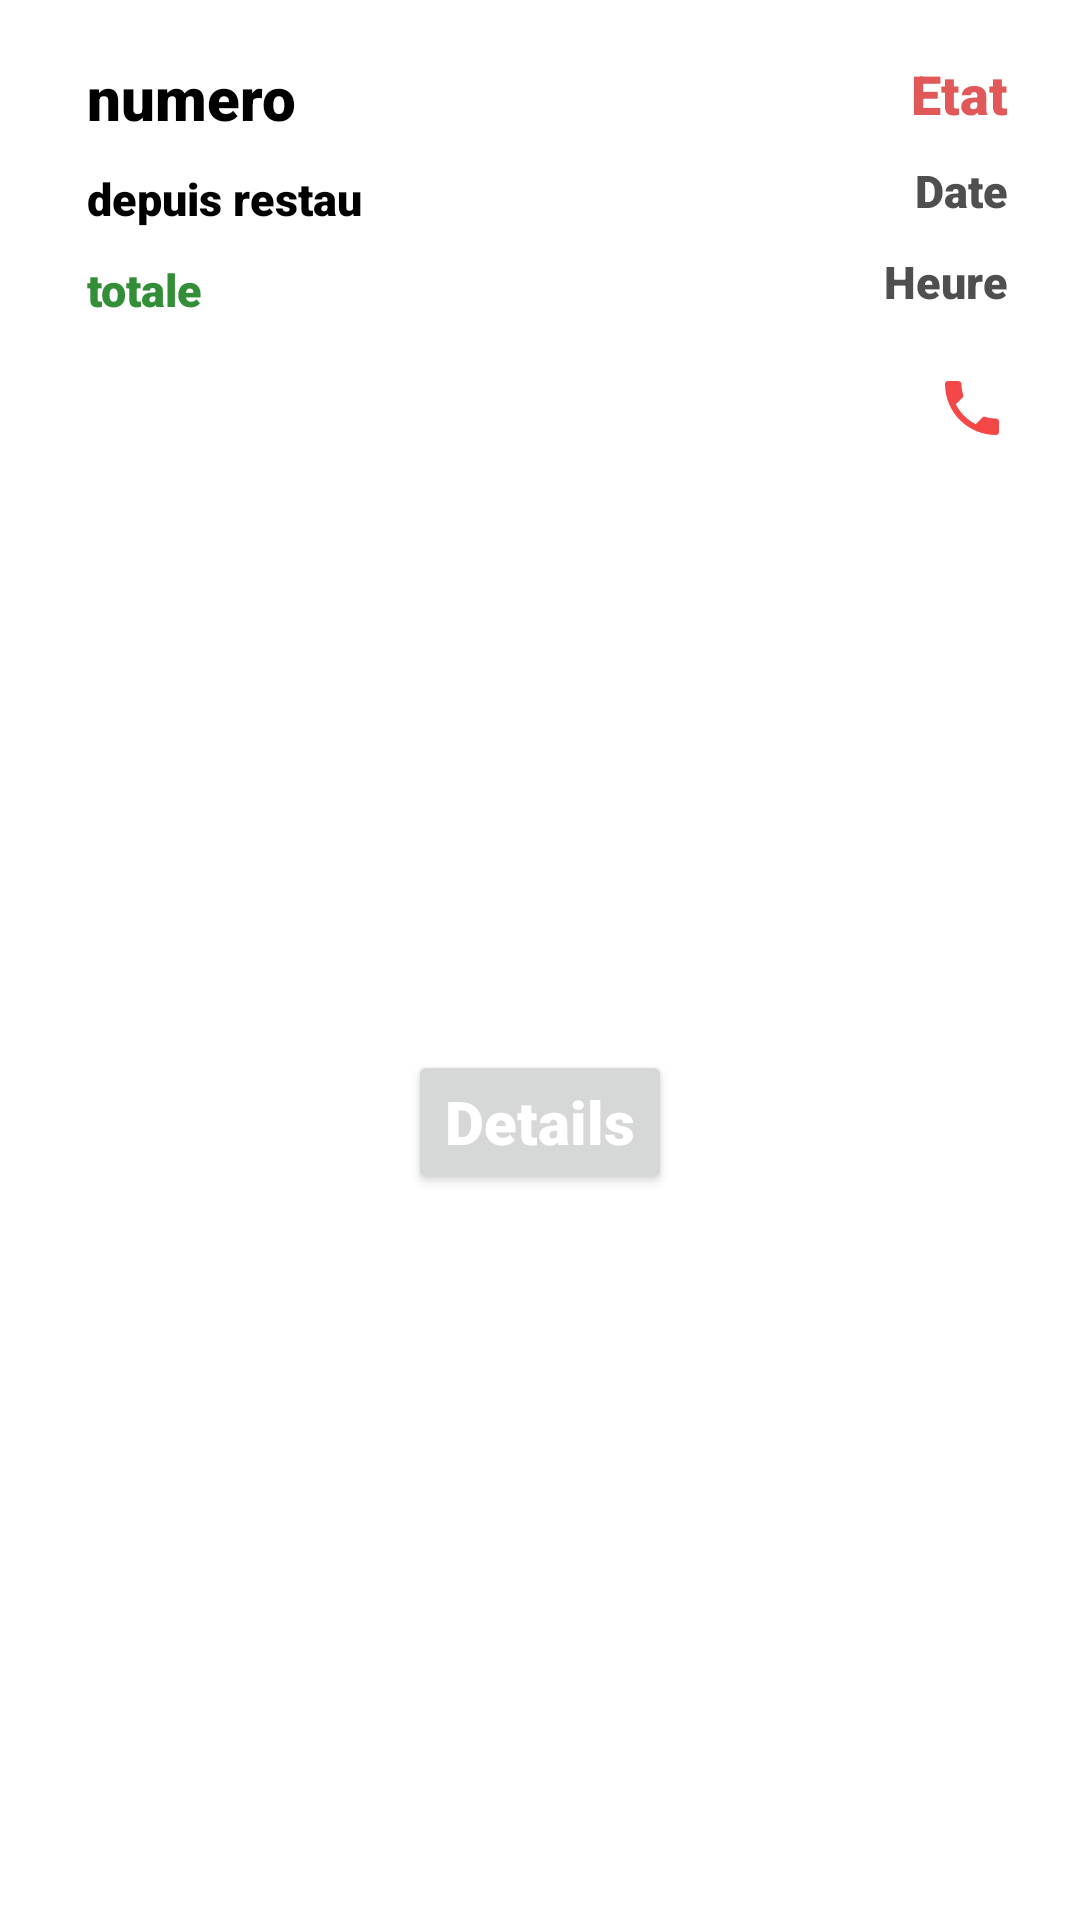

Icon click points for this 1080 × 1920 phone screenshot, format [x,y]:
local phone: [972,408]
